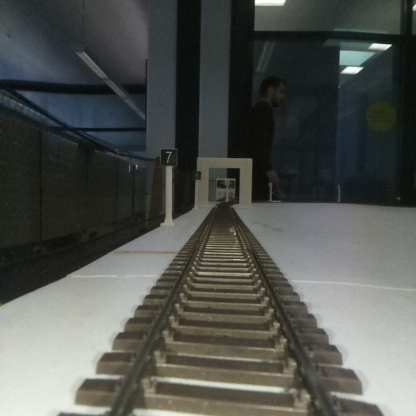black-info-7: (160, 148, 177, 225)
